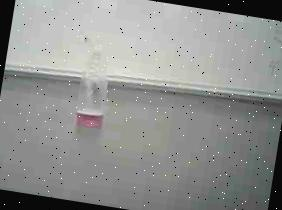hazard: (57, 27, 122, 131)
